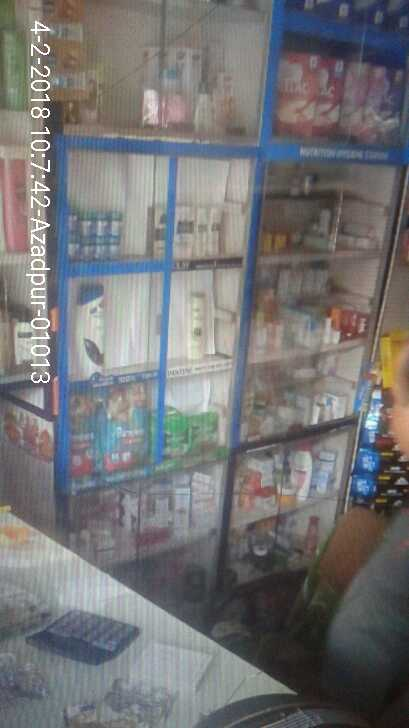vicks: (68, 206, 130, 258)
